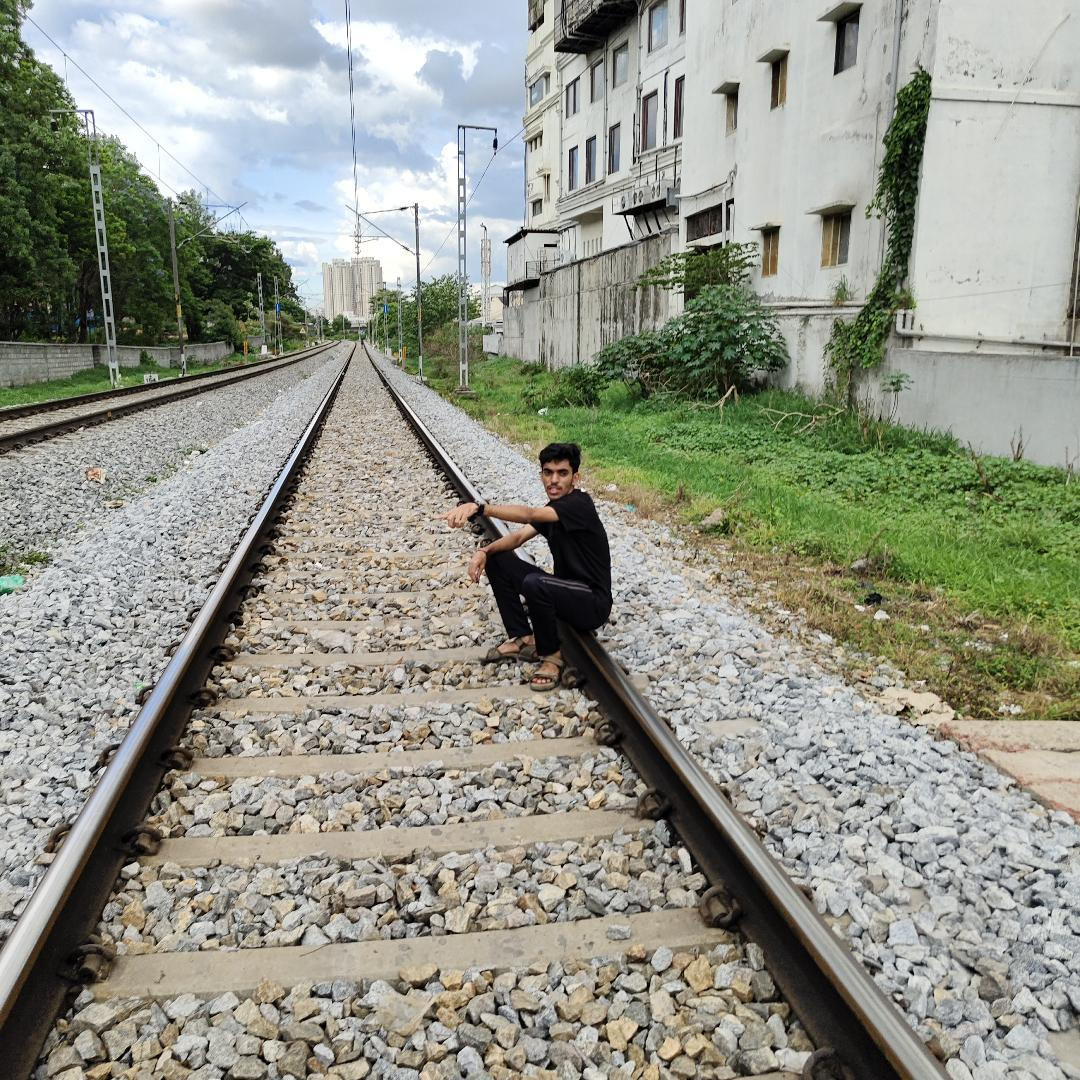sitting: (432, 431, 626, 701)
